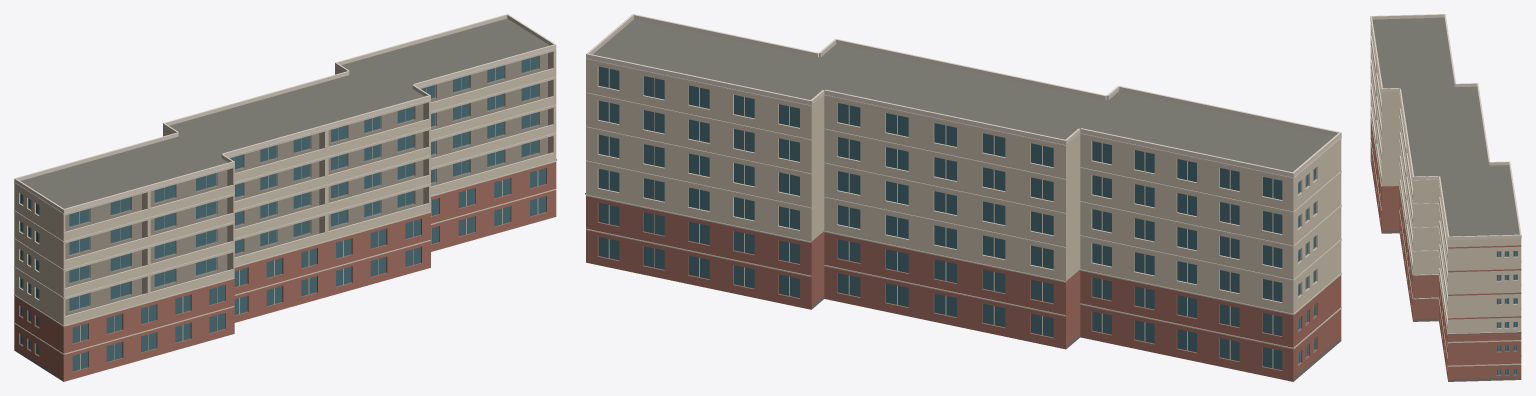
Rendered from chunk-dorm-way-1474800689.glb.
The picture shows the model from 3 angles, left to right: view 1: azimuth 30°, elevation 25°; view 2: azimuth 150°, elevation 25°; view 3: azimuth 270°, elevation 25°; orthographic projection. The views are drawn at different scales.
Parts seen in each view (by area): view 1: chunk-dorm-way-1474800689; view 2: chunk-dorm-way-1474800689; view 3: chunk-dorm-way-1474800689.
Boxes of the visible parts, x1,y1,x2,y2 form: chunk-dorm-way-1474800689: (14, 14, 556, 381); chunk-dorm-way-1474800689: (585, 14, 1341, 381); chunk-dorm-way-1474800689: (1370, 14, 1521, 381).
Size of the model in its own units: 66.95 by 20.22 by 19.18.
